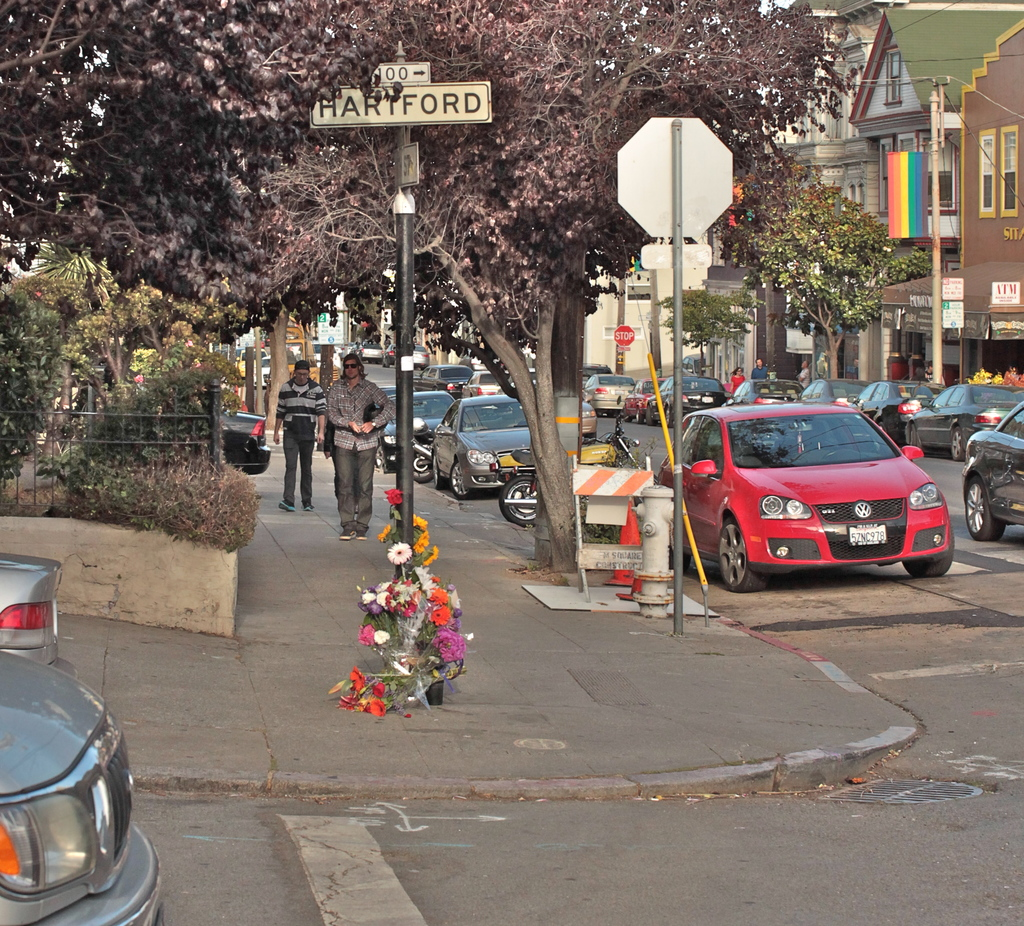Car: (233, 366, 1023, 591), (0, 659, 167, 925), (0, 556, 62, 664)
